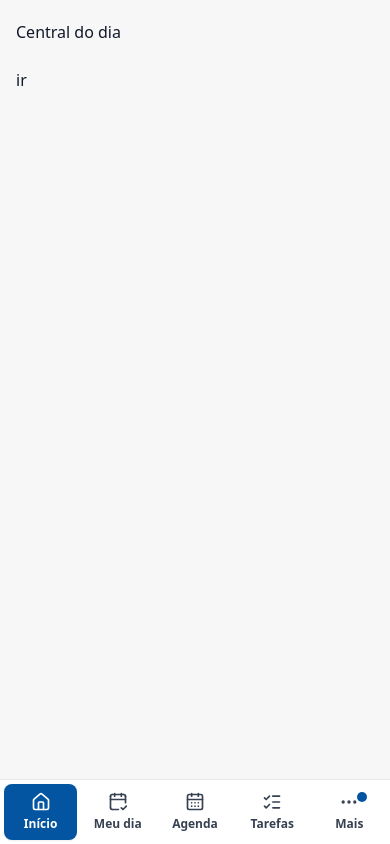
Test: AppShell — acessibilidade › o menu "Mais" fecha com Escape e informa o contador de não lidas
The image size is (390, 844).
Click the button "Mais". click: (349, 812)
box: left=313, top=784, right=386, bottom=840
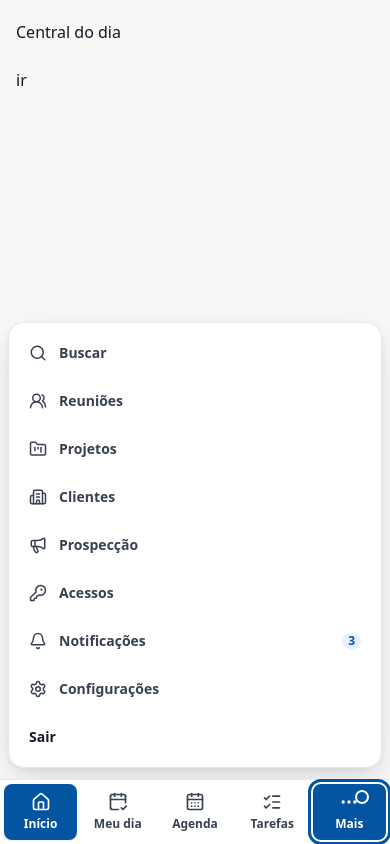
expect the button "Mais" is expanded: met, box left=313, top=784, right=386, bottom=840
expect the link "Notificações 3" is shown: met, box left=29, top=631, right=361, bottom=650
Press Escape
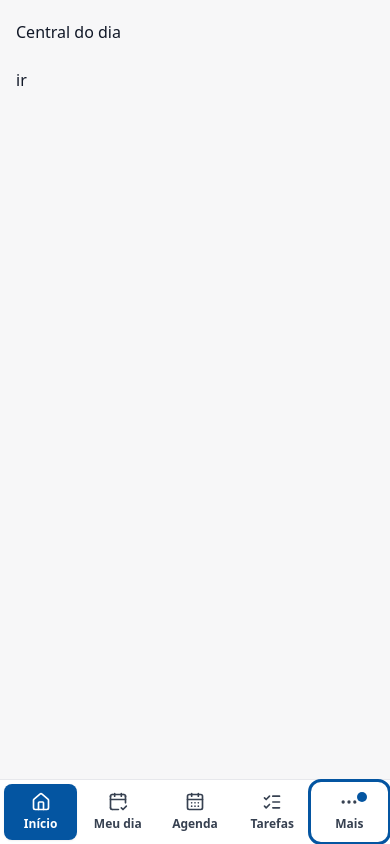
expect the button "Mais" is collapsed: met, box left=313, top=784, right=386, bottom=840
